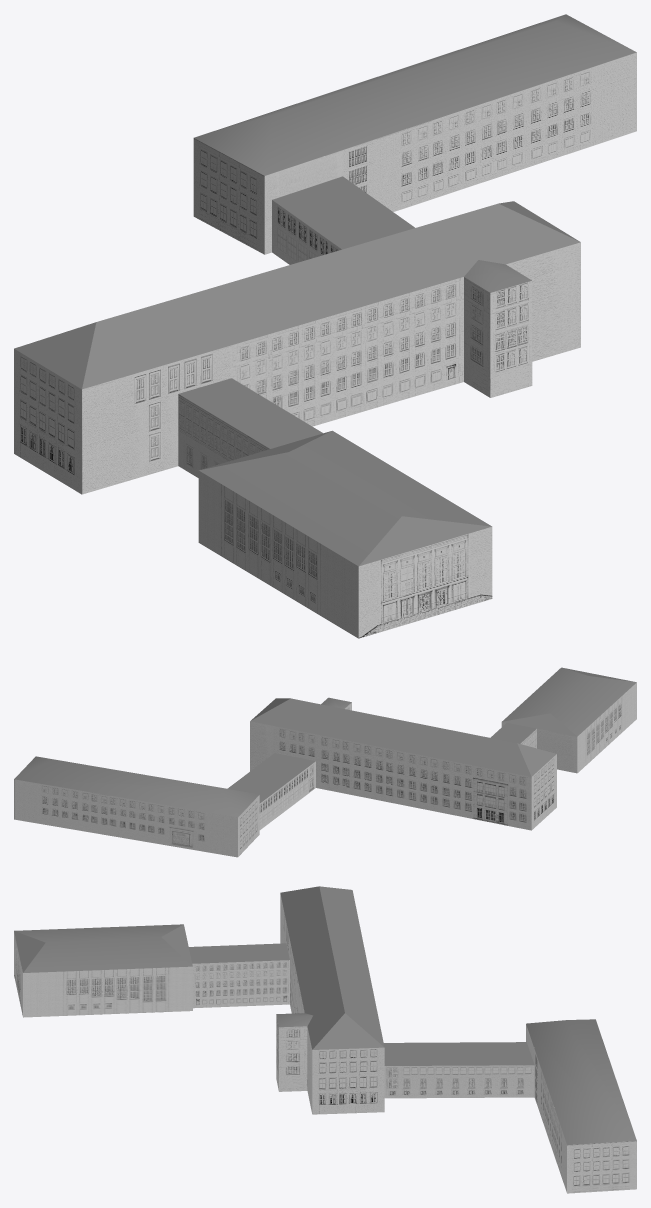
Rendered from Gerhart-Potthoff-Bau.gltf.
3 views of the same model, one above another, from view 1: azimuth 30°, elevation 25°; view 2: azimuth 150°, elevation 25°; view 3: azimuth 270°, elevation 25° (orthographic). The views are drawn at different scales.
Visible parts, largest first — view 1: Dach.1; view 2: Dach.1; view 3: Dach.1.
Boxes of the visible parts, x1,y1,x2,y2 form: Dach.1: [14, 14, 636, 638]; Dach.1: [14, 667, 636, 857]; Dach.1: [14, 886, 636, 1193].
Size of the model in its own units: 127 by 21 by 140.
Materials: 18 (17 with a texture image).
